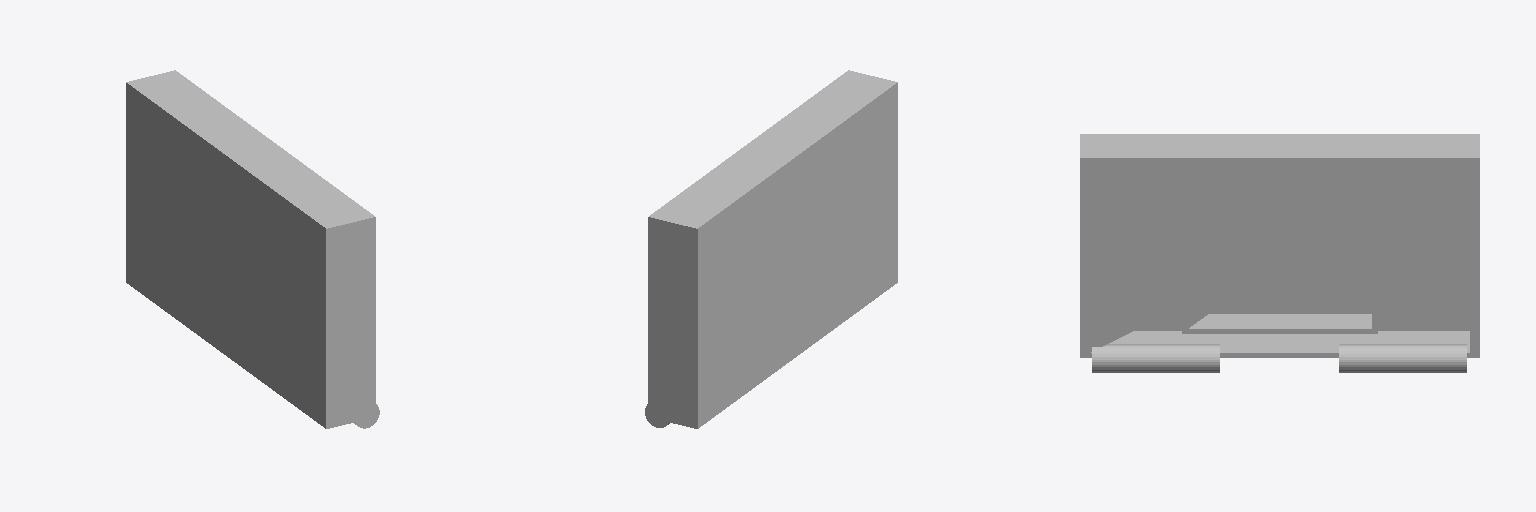
The model's file is TrimTop.obj.
3 views of the same model, side by side, from view 1: azimuth 30°, elevation 25°; view 2: azimuth 150°, elevation 25°; view 3: azimuth 270°, elevation 25° (orthographic).
Visible parts, largest first — view 1: Cube.007; view 2: Cube.007; view 3: Cube.007, Cube.008, Cylinder.002, Cylinder.001.
Boxes of the visible parts, box(x1,y1,x2,y2) form: Cube.007: box(126, 70, 375, 428); Cube.007: box(648, 70, 897, 428); Cube.007: box(1080, 134, 1479, 357); Cube.008: box(1182, 209, 1377, 333); Cylinder.002: box(1339, 344, 1466, 372); Cylinder.001: box(1092, 344, 1219, 372).
Bounding box in the file's own units: 4.16 × 14.42 × 24.32.